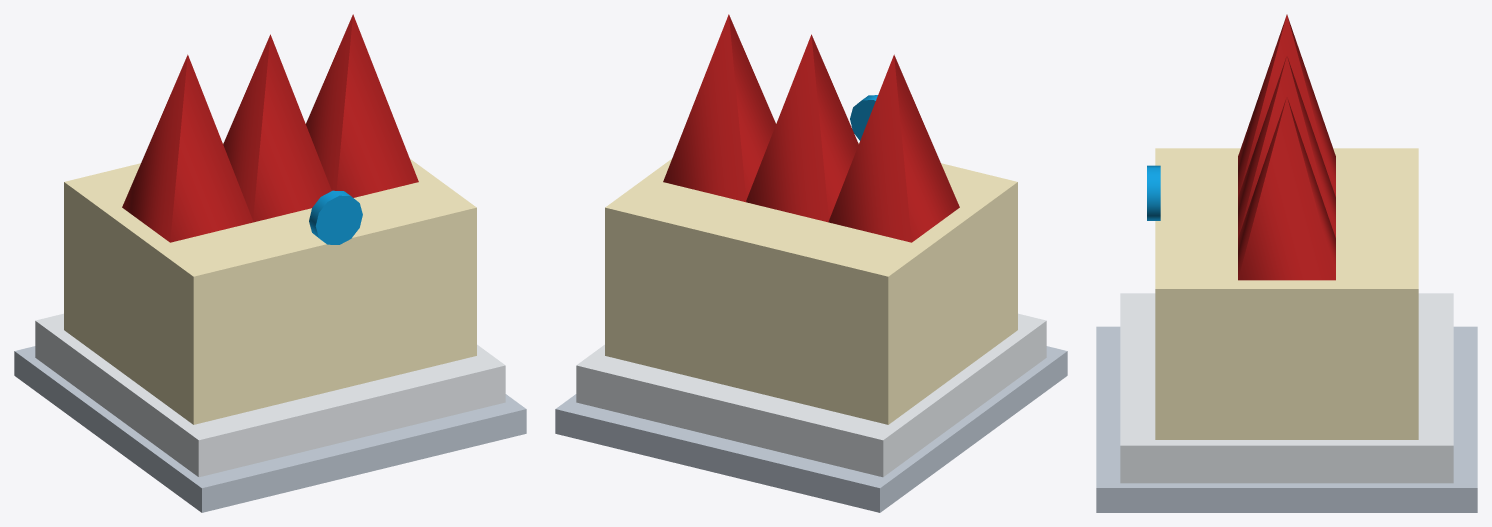
The model's file is bld_c3_cell_13.glb.
3 views of the same model, side by side, from view 1: azimuth 30°, elevation 25°; view 2: azimuth 150°, elevation 25°; view 3: azimuth 270°, elevation 25° (orthographic).
Visible parts, largest first — view 1: Bld_C3_Cell_13_BespokeLandmark; view 2: Bld_C3_Cell_13_BespokeLandmark; view 3: Bld_C3_Cell_13_BespokeLandmark.
Boxes of the visible parts, x1=… form: Bld_C3_Cell_13_BespokeLandmark: x1=14, y1=14, x2=526, y2=512; Bld_C3_Cell_13_BespokeLandmark: x1=555, y1=14, x2=1067, y2=512; Bld_C3_Cell_13_BespokeLandmark: x1=1096, y1=14, x2=1477, y2=512.
Size of the model in its own units: 0.55 by 0.6 by 0.55.
